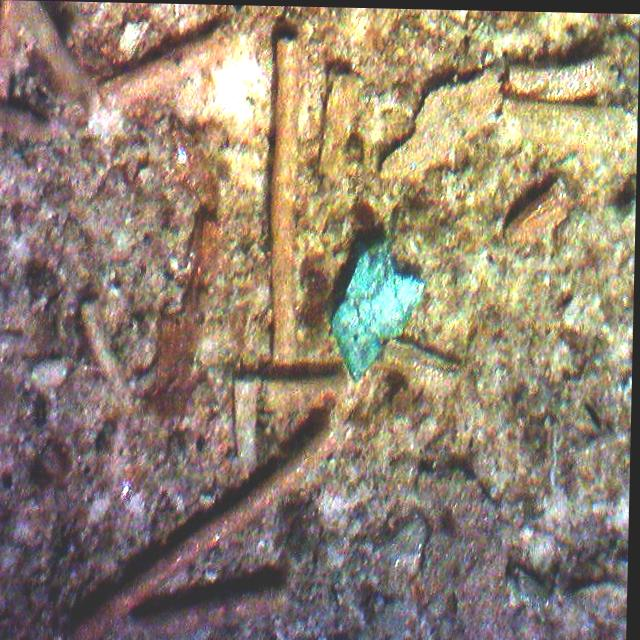microplastic: (333, 239, 425, 382)
